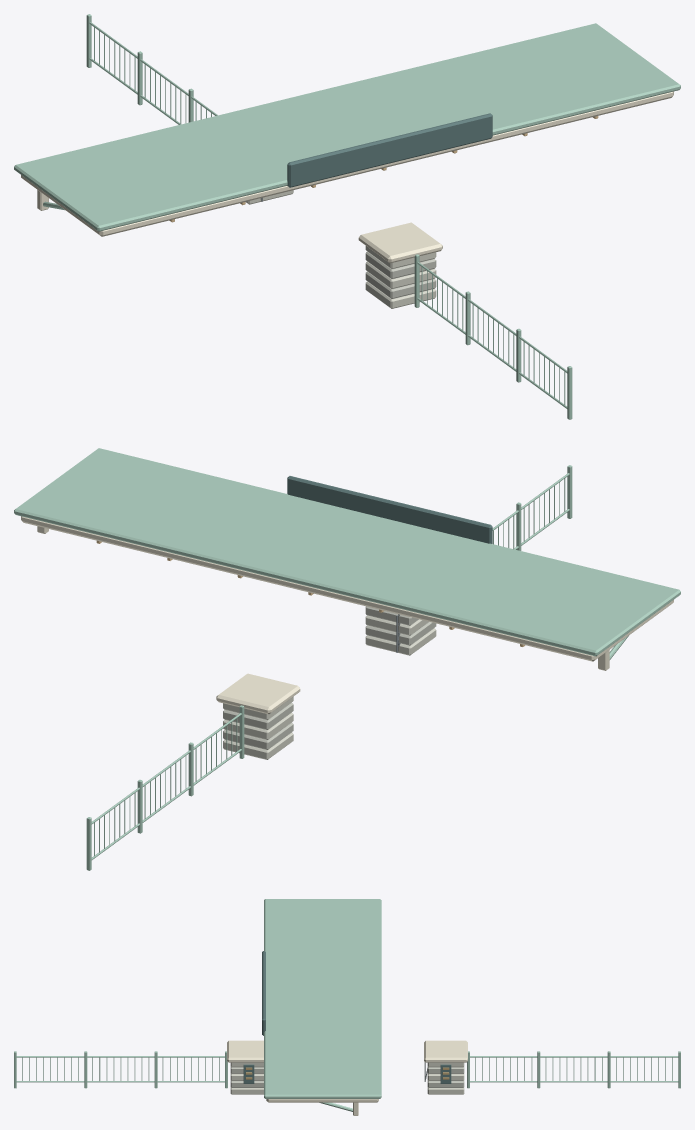
File: school-entry.glb
3 renders of one model, top to bottom at view 1: azimuth 30°, elevation 25°; view 2: azimuth 150°, elevation 25°; view 3: azimuth 270°, elevation 25°, orthographic. The views are drawn at different scales.
Parts seen in each view (by area): view 1: entrance-sage cushion, gate-sage cushion, entrance-recess shadow, entrance-limestone bands, gate-limestone bands, gate-gate stone alternating courses, gate-gate stone; view 2: entrance-sage cushion, gate-sage cushion, entrance-limestone bands, entrance-recess shadow, gate-gate stone alternating courses, gate-gate stone, gate-limestone bands; view 3: entrance-sage cushion, gate-sage cushion, gate-limestone bands, gate-gate stone alternating courses, gate-gate stone, entrance-limestone bands, gate-recess shadow.
Part boxes in pixels (x1,y1,x2,y2): entrance-sage cushion: (14,23,680,231); gate-sage cushion: (86,14,572,419); entrance-recess shadow: (287,113,492,187); entrance-limestone bands: (21,91,673,236); gate-limestone bands: (358,222,442,263); gate-gate stone alternating courses: (246,190,436,308); gate-gate stone: (365,251,436,298); entrance-sage cushion: (14,448,680,659); gate-sage cushion: (86,465,572,870); entrance-limestone bands: (21,516,673,670); entrance-recess shadow: (287,476,492,543); gate-gate stone alternating courses: (223,615,436,759); gate-gate stone: (223,606,436,749); gate-limestone bands: (216,673,300,714); entrance-sage cushion: (264,899,381,1111); gate-sage cushion: (14,1051,680,1088); gate-limestone bands: (227,1040,467,1062); gate-gate stone alternating courses: (230,1062,464,1094); gate-gate stone: (230,1066,464,1087); entrance-limestone bands: (266,1099,378,1115); gate-recess shadow: (243,1064,451,1083).
Size of the model in its own units: 16.55 by 4.05 by 23.7.
